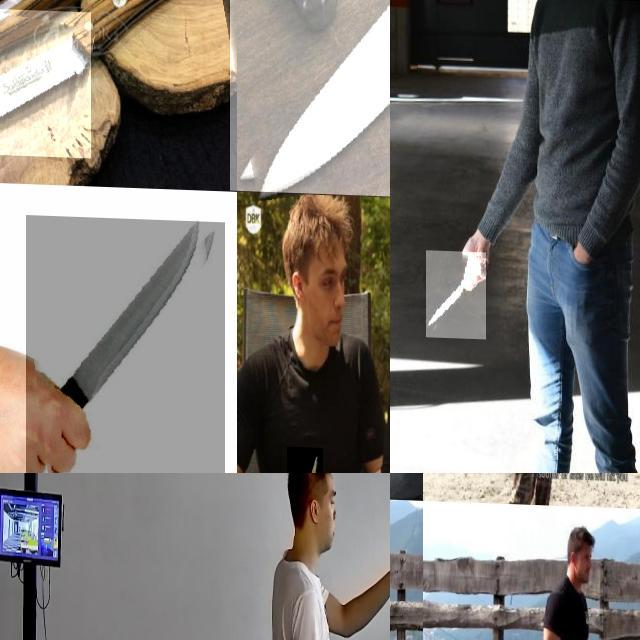-: (25, 214, 225, 473), (230, 0, 390, 195), (0, 5, 90, 157), (76, 0, 189, 48), (426, 248, 486, 336), (390, 473, 449, 501), (287, 443, 323, 473), (489, 473, 528, 484)
